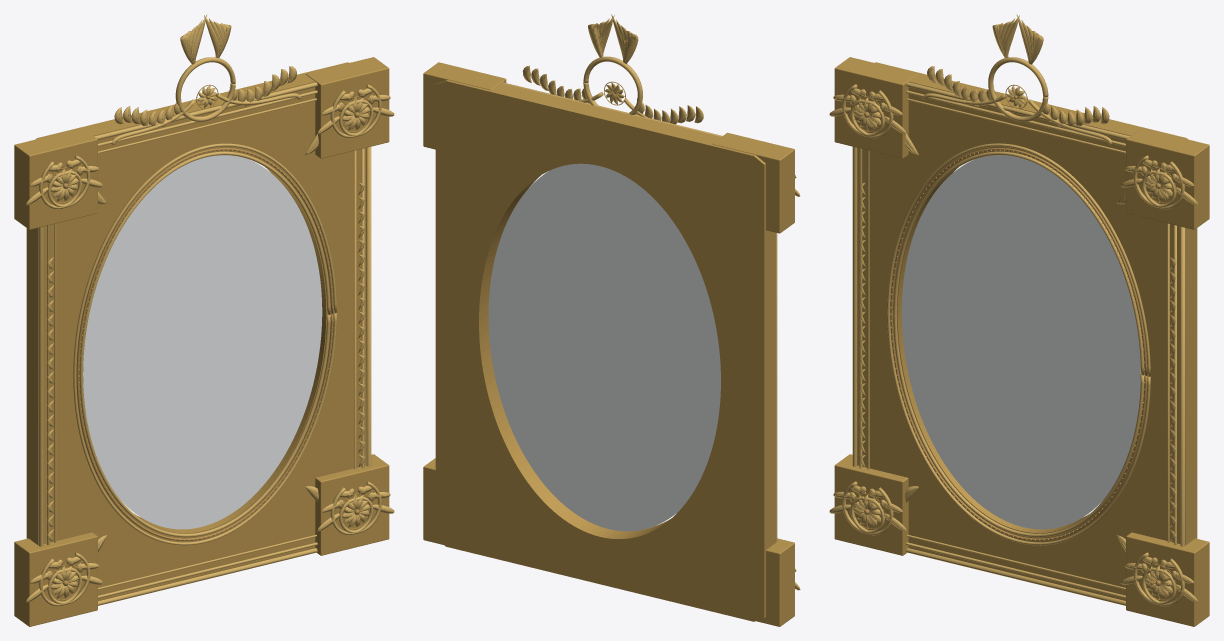
The picture shows the model from 3 angles, left to right: view 1: azimuth 30°, elevation 25°; view 2: azimuth 150°, elevation 25°; view 3: azimuth 330°, elevation 25°; orthographic projection.
Visible parts, largest first — view 1: Belgravia ornate gilt portrait mirror | living-9 web batch; view 2: Belgravia ornate gilt portrait mirror | living-9 web batch; view 3: Belgravia ornate gilt portrait mirror | living-9 web batch.
Boxes of the visible parts, x1,y1,x2,y2 form: Belgravia ornate gilt portrait mirror | living-9 web batch: (14, 14, 394, 626); Belgravia ornate gilt portrait mirror | living-9 web batch: (423, 14, 800, 626); Belgravia ornate gilt portrait mirror | living-9 web batch: (829, 14, 1209, 626).
Size of the model in its own units: 0.94 by 1.38 by 0.09.
